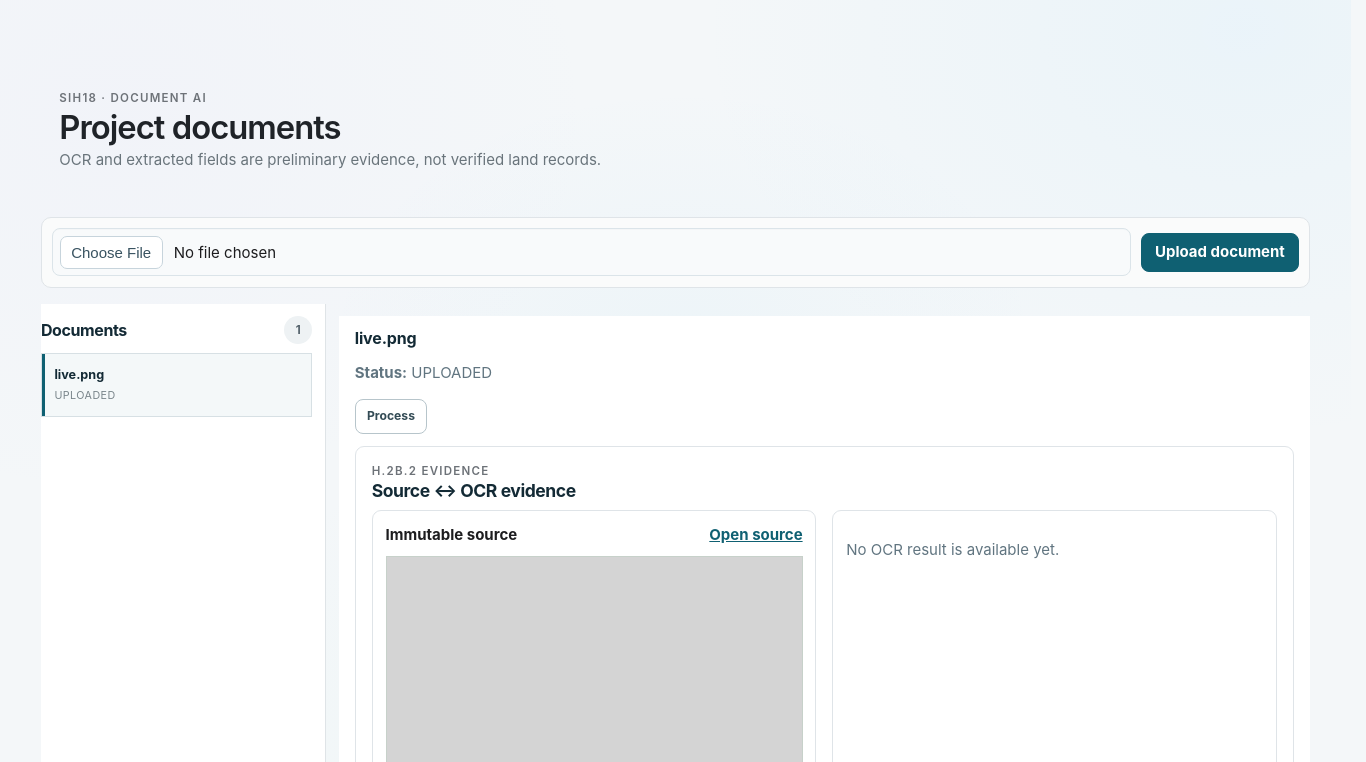
Test: DocumentsPage › refreshes structured fields automatically after processing completes
The width and height of the screenshot is (1366, 762).
Step 1. Click the button "Process" → [391, 416], box [355,399,427,434]
(page scrolled)
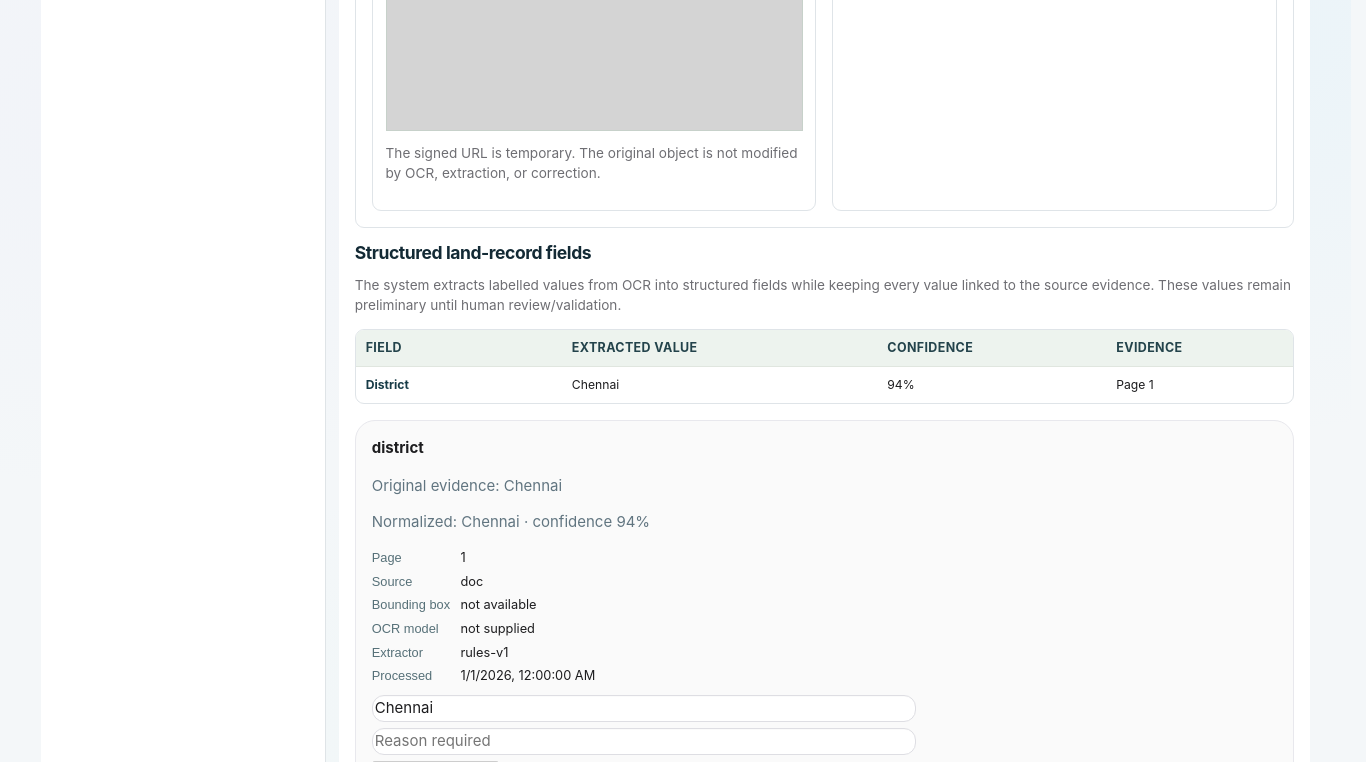
Expected: the column heading "District" is shown, [356,367,562,403]
Expected: the cell "Chennai" is shown, [562,367,877,403]
